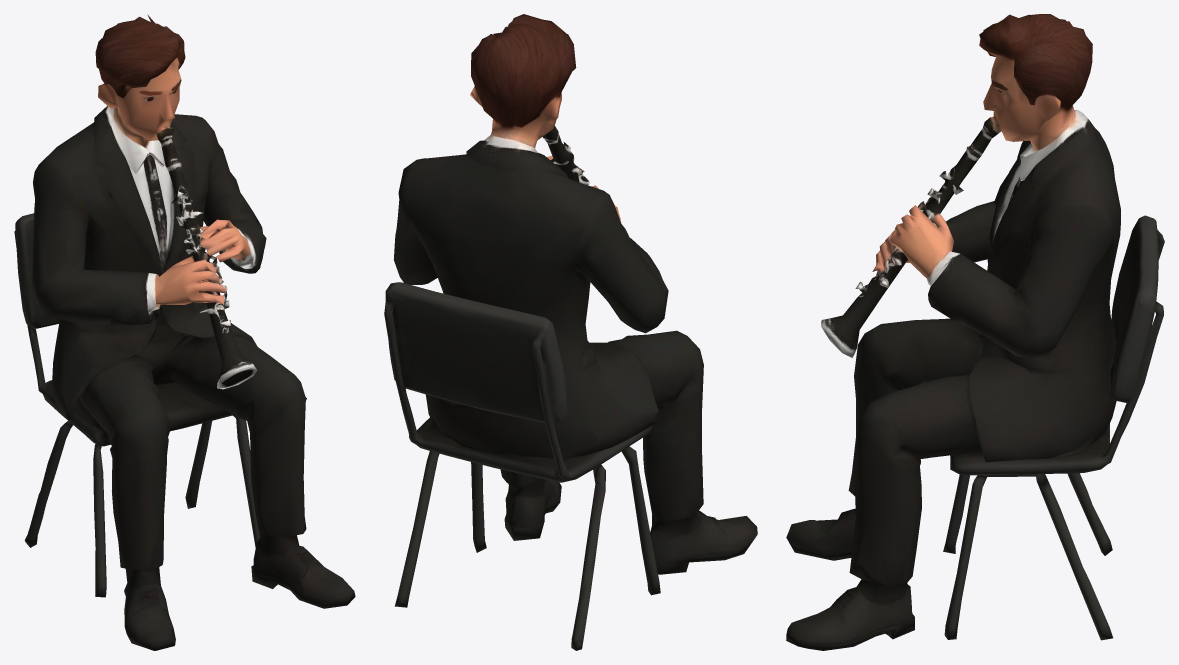
Rendered from oboist.glb.
3 views of the same model, side by side, from view 1: azimuth 30°, elevation 25°; view 2: azimuth 150°, elevation 25°; view 3: azimuth 270°, elevation 25° (orthographic). The views are drawn at different scales.
Visible parts, largest first — view 1: tripo_node_36846ea5-6922-4b0b-afc5-7073e9e5d13b; view 2: tripo_node_36846ea5-6922-4b0b-afc5-7073e9e5d13b; view 3: tripo_node_36846ea5-6922-4b0b-afc5-7073e9e5d13b.
Part boxes in pixels (box(x1,y1,x2,y2)): tripo_node_36846ea5-6922-4b0b-afc5-7073e9e5d13b: box(14, 14, 355, 650); tripo_node_36846ea5-6922-4b0b-afc5-7073e9e5d13b: box(384, 14, 757, 650); tripo_node_36846ea5-6922-4b0b-afc5-7073e9e5d13b: box(786, 14, 1164, 650).
Bounding box in the file's own units: 0.5739 × 1.25 × 0.7394.
Materials: 1 (1 with a texture image).
